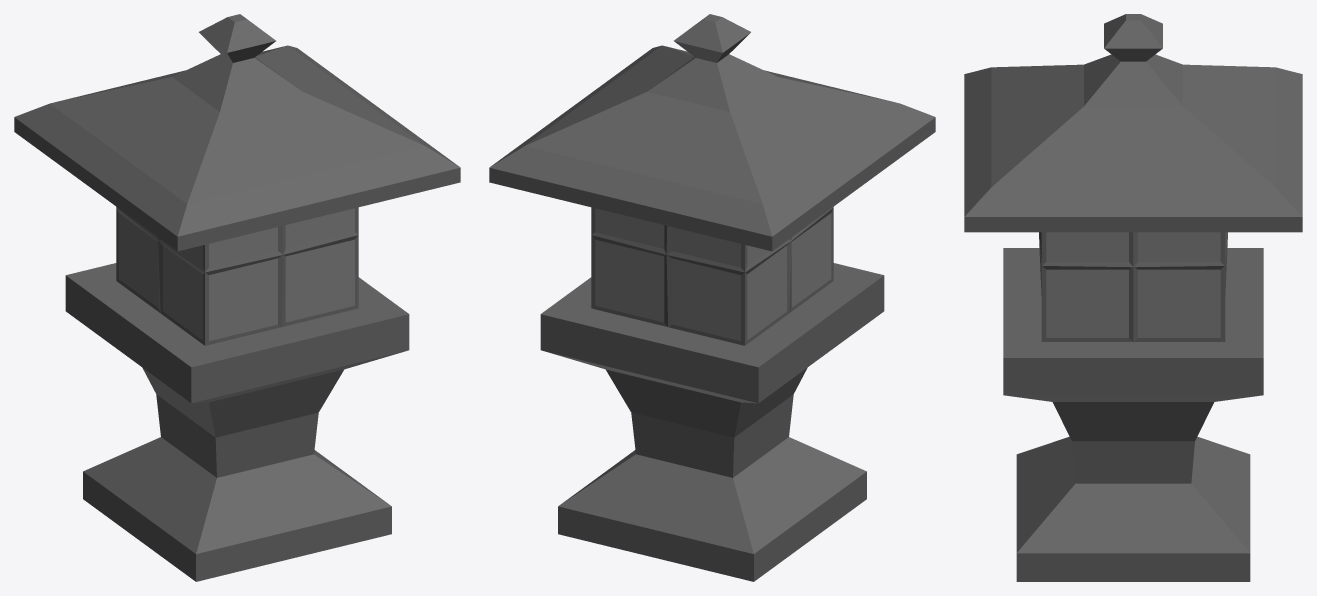
The model's file is MediumShrineStatue.glb.
The picture shows the model from 3 angles, left to right: view 1: azimuth 30°, elevation 25°; view 2: azimuth 150°, elevation 25°; view 3: azimuth 270°, elevation 25°; orthographic projection. The views are drawn at different scales.
Visible parts, largest first — view 1: Shrine_Statue_5; view 2: Shrine_Statue_5; view 3: Shrine_Statue_5.
Part boxes in pixels (x1,y1,x2,y2): Shrine_Statue_5: (14,14,460,581); Shrine_Statue_5: (489,14,935,581); Shrine_Statue_5: (964,14,1302,581).
Size of the model in its own units: 0.3545 by 0.5965 by 0.3545.
1 material, 1 textured.
